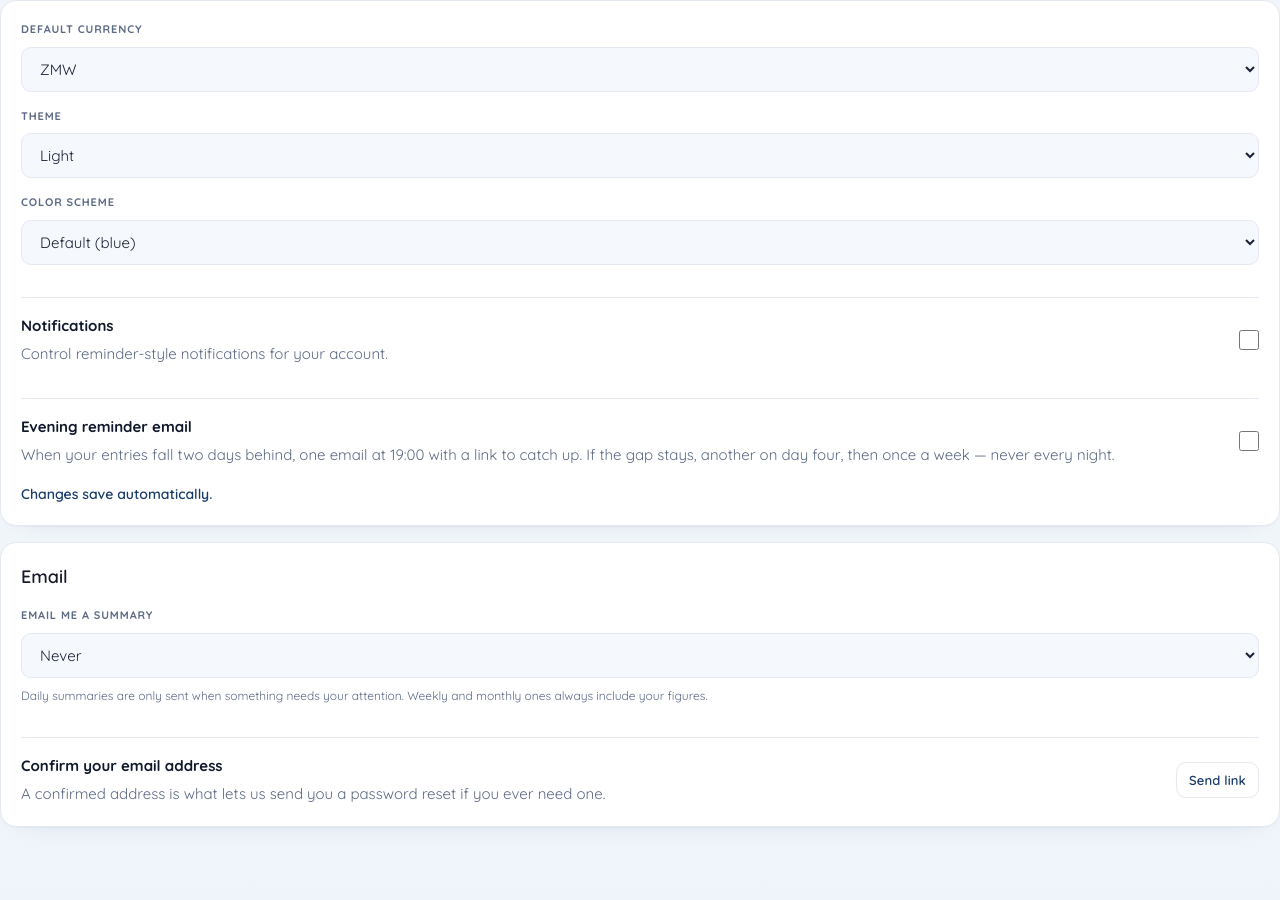
Test case: PreferencesSettingsPage › automatically saves preference changes after the debounce
Expected: the text "Changes save automatically." is shown, [21,485,212,503]
Select "USD" in the dropdown labelled "Default currency": (640, 69) [21,47,1259,92]
Wait 500 ms
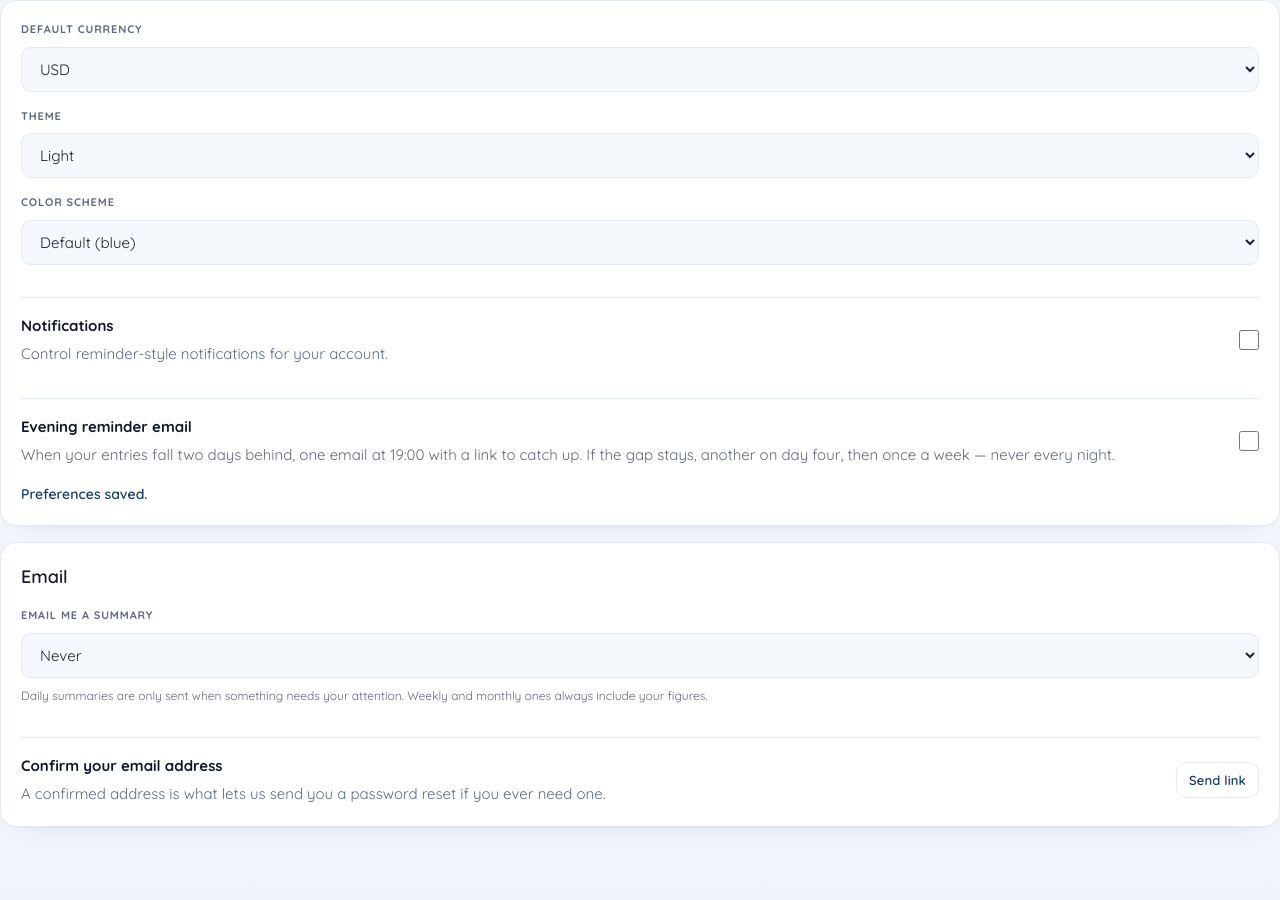
Expected: the text "Preferences saved." is shown, [21,485,148,503]
